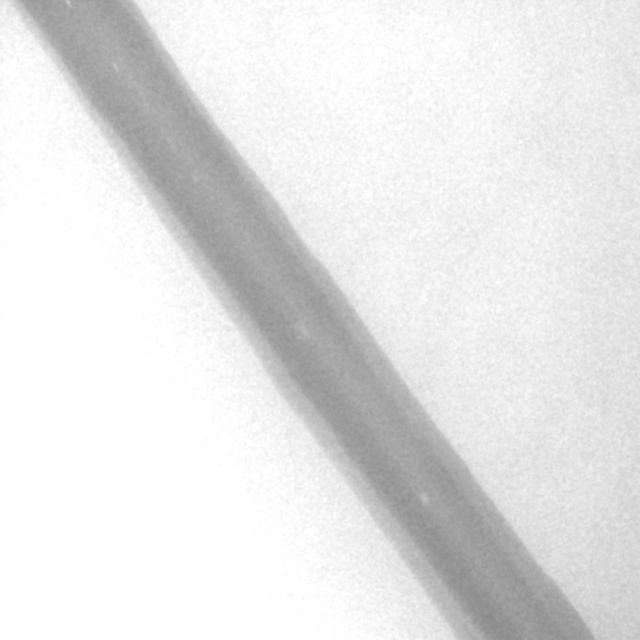air hole: (416, 490, 430, 507)
